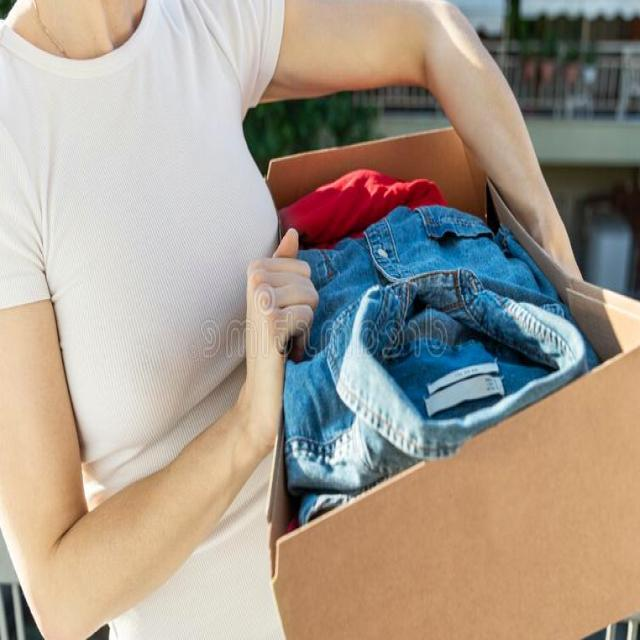clothes: (318, 148, 540, 503)
